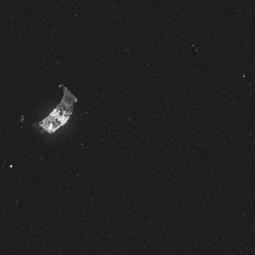lisa_pathfinder: (10, 73, 91, 148)
